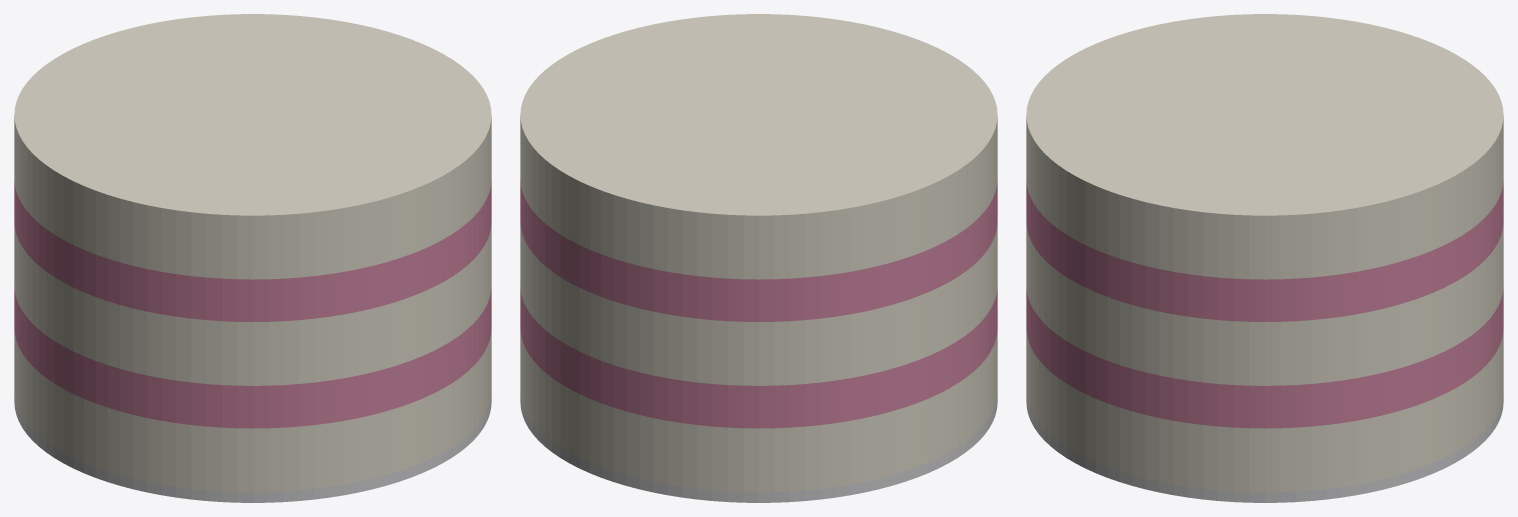
The model's file is cake_8in_layers3.glb.
3 renders of one model, left to right at view 1: azimuth 30°, elevation 25°; view 2: azimuth 150°, elevation 25°; view 3: azimuth 270°, elevation 25°, orthographic.
Parts seen in each view (by area): view 1: geometry_4, geometry_2, geometry_0, geometry_1, geometry_3, geometry_5; view 2: geometry_4, geometry_2, geometry_0, geometry_1, geometry_3, geometry_5; view 3: geometry_4, geometry_2, geometry_0, geometry_1, geometry_3, geometry_5.
Boxes of the visible parts, x1,y1,x2,y2 form: geometry_4: (14,14,491,279); geometry_2: (14,223,491,385); geometry_0: (14,329,491,492); geometry_1: (14,286,491,428); geometry_3: (14,180,491,321); geometry_5: (14,393,491,502); geometry_4: (520,14,997,279); geometry_2: (520,223,997,385); geometry_0: (520,329,997,492); geometry_1: (520,286,997,428); geometry_3: (520,180,997,321); geometry_5: (520,393,997,502); geometry_4: (1026,14,1503,279); geometry_2: (1026,223,1503,385); geometry_0: (1026,329,1503,492); geometry_1: (1026,286,1503,428); geometry_3: (1026,180,1503,321); geometry_5: (1026,393,1503,502).
Size of the model in its own units: 0.2032 by 0.135 by 0.2032.
